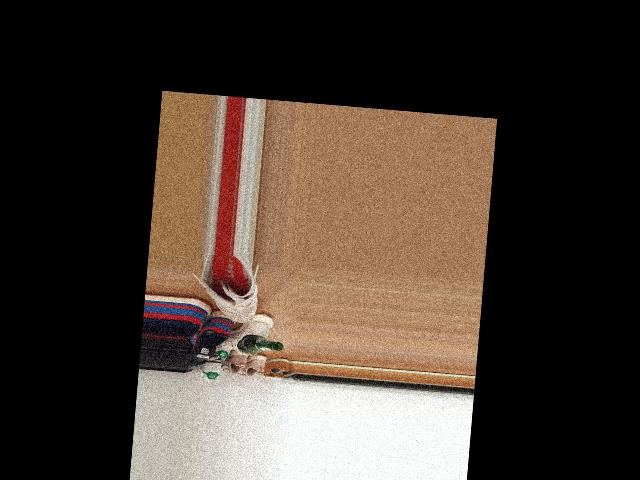beer: (237, 333, 284, 353)
